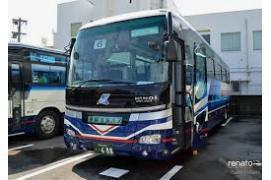bus: (64, 6, 231, 160)
